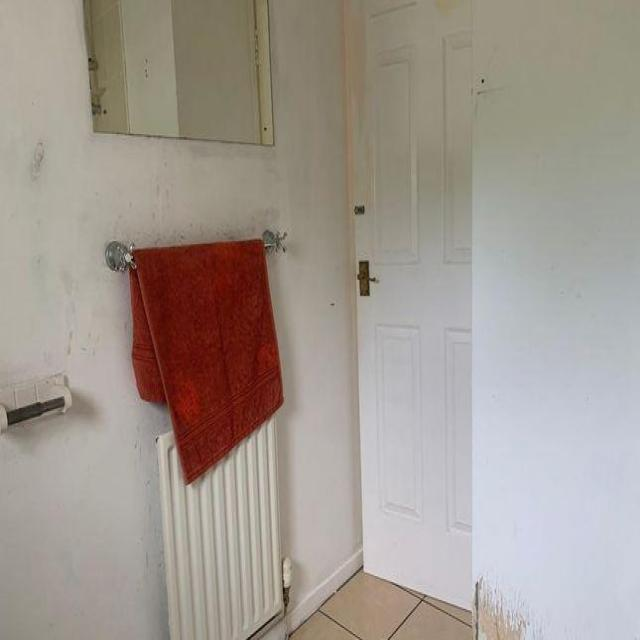Wall: (0, 0, 361, 638), (472, 0, 640, 637), (291, 572, 472, 640)
